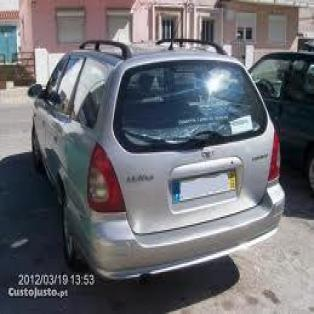Auto: (27, 37, 286, 285)
